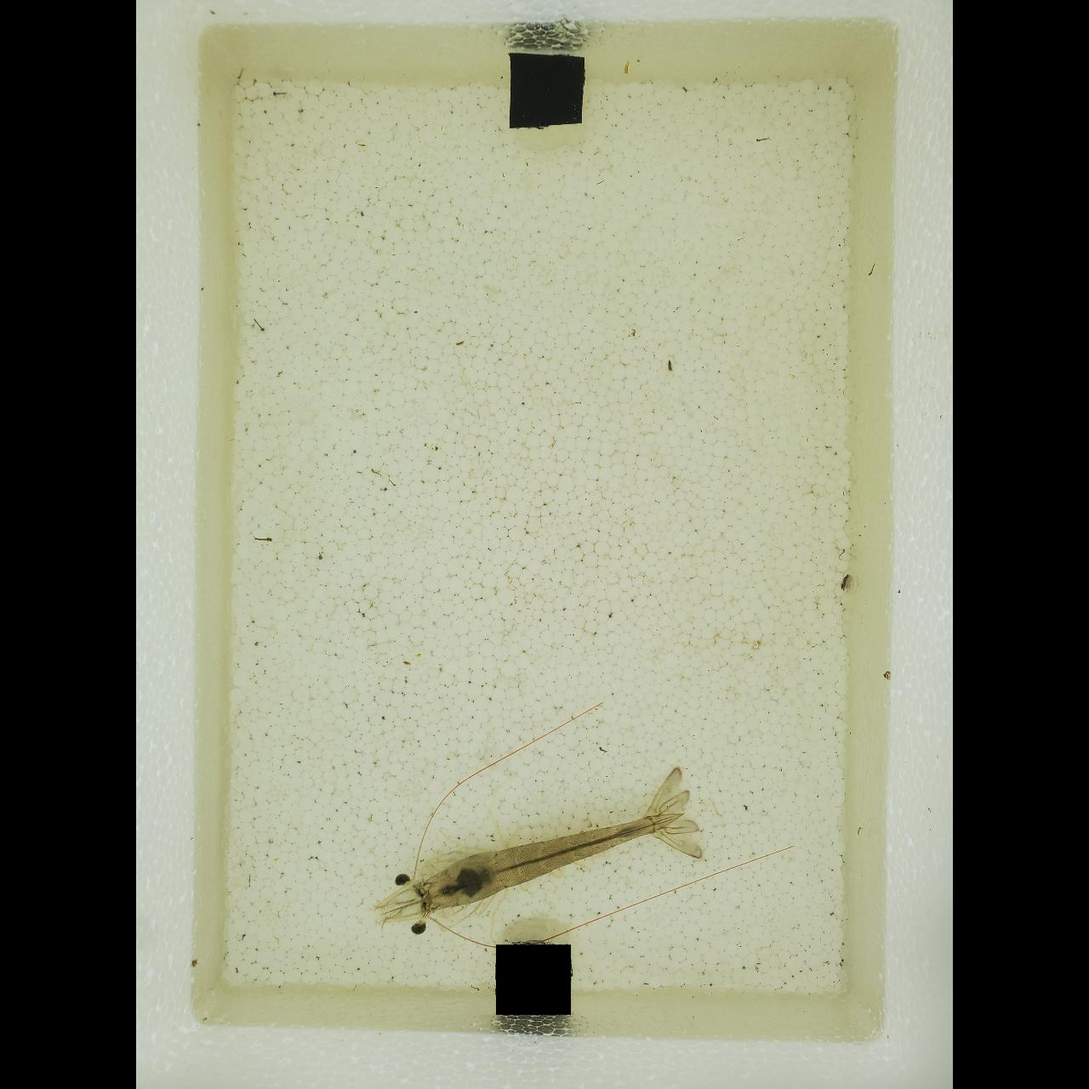box: (507, 53, 587, 131), (494, 944, 573, 1019)
top_shrimp: (419, 810, 686, 911)
